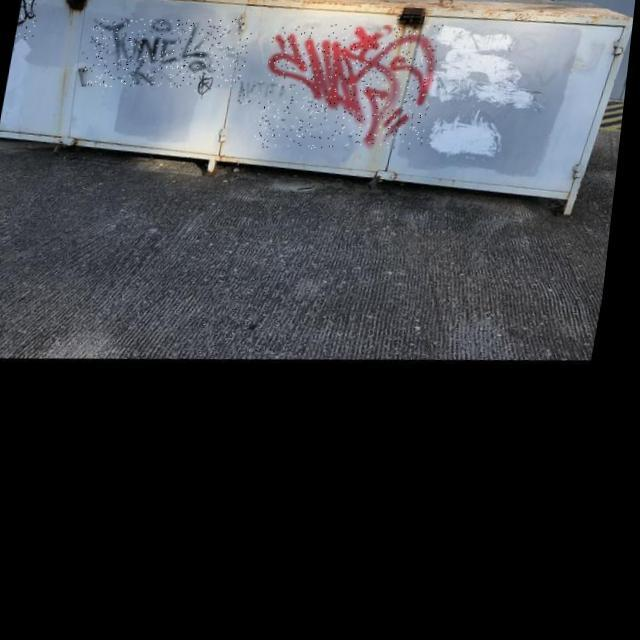-: (255, 19, 445, 164), (82, 11, 255, 99), (238, 81, 292, 111), (15, 0, 40, 40), (193, 76, 219, 102)
